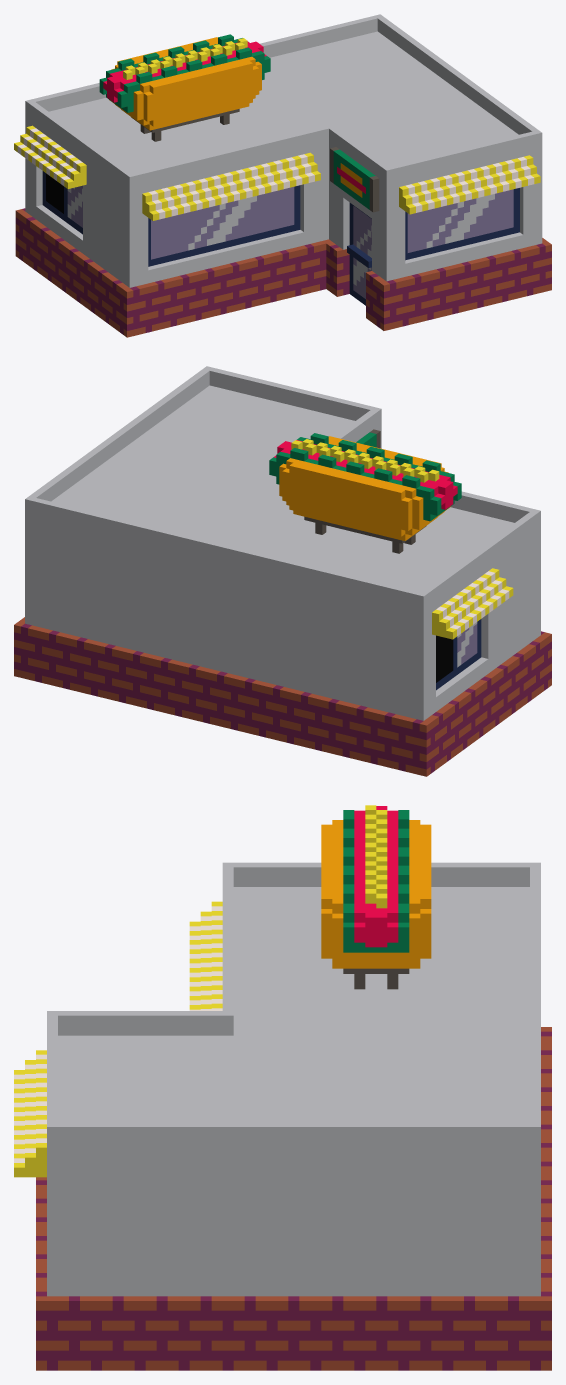
Rendered from hotdog_shop_a.obj.
3 views of the same model, one above another, from view 1: azimuth 30°, elevation 25°; view 2: azimuth 150°, elevation 25°; view 3: azimuth 270°, elevation 25° (orthographic). The views are drawn at different scales.
Bounding box in the file's own units: 6.1 × 3.3 × 4.9.
Materials: 1 (1 with a texture image).
